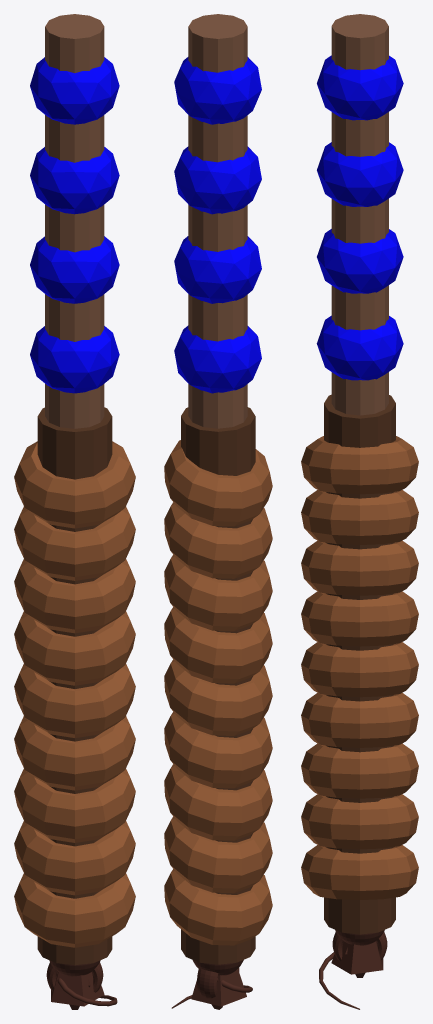
Rendered from Wand 430.glb.
The picture shows the model from 3 angles, left to right: view 1: azimuth 90°, elevation 25°; view 2: azimuth 150°, elevation 25°; view 3: azimuth 270°, elevation 25°; orthographic projection. The views are drawn at different scales.
Visible parts, largest first — view 1: GeneratedWand, Pommel_9, Pommel_4, Pommel_2, Pommel_10; view 2: GeneratedWand, Pommel_9, Pommel_2, Pommel_4, Pommel_10; view 3: GeneratedWand, Pommel_9, Pommel_4, Pommel_2, Pommel_10.
Boxes of the visible parts, x1=… form: GeneratedWand: x1=14, y1=14, x2=135, y2=965; Pommel_9: x1=51, y1=972, x2=104, y2=1006; Pommel_4: x1=49, y1=960, x2=100, y2=976; Pommel_2: x1=46, y1=962, x2=103, y2=992; Pommel_10: x1=56, y1=972, x2=117, y2=1006; GeneratedWand: x1=164, y1=14, x2=272, y2=964; Pommel_9: x1=191, y1=969, x2=246, y2=1006; Pommel_2: x1=197, y1=967, x2=239, y2=998; Pommel_4: x1=192, y1=960, x2=243, y2=975; Pommel_10: x1=171, y1=978, x2=252, y2=1008; GeneratedWand: x1=301, y1=14, x2=418, y2=934; Pommel_9: x1=331, y1=941, x2=383, y2=974; Pommel_4: x1=335, y1=930, x2=384, y2=945; Pommel_2: x1=332, y1=932, x2=387, y2=961; Pommel_10: x1=319, y1=952, x2=359, y2=1009.
Size of the model in its own units: 0.0508 by 0.5233 by 0.0581.
